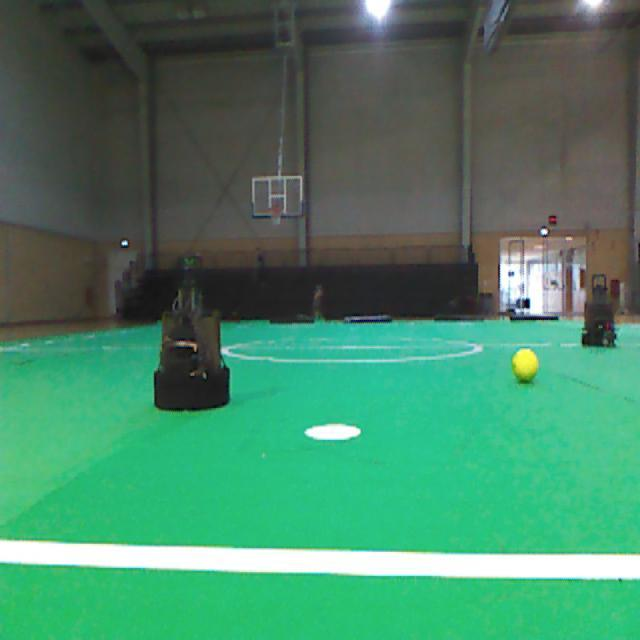ball: (511, 348, 537, 381)
robot: (154, 275, 229, 409), (581, 275, 615, 345)
